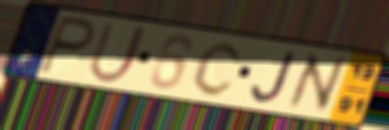6: (147, 33, 195, 91)
C: (190, 40, 246, 98)
J: (250, 49, 300, 105)
N: (284, 50, 349, 114)
P: (36, 13, 99, 78)
U: (85, 20, 151, 86)
